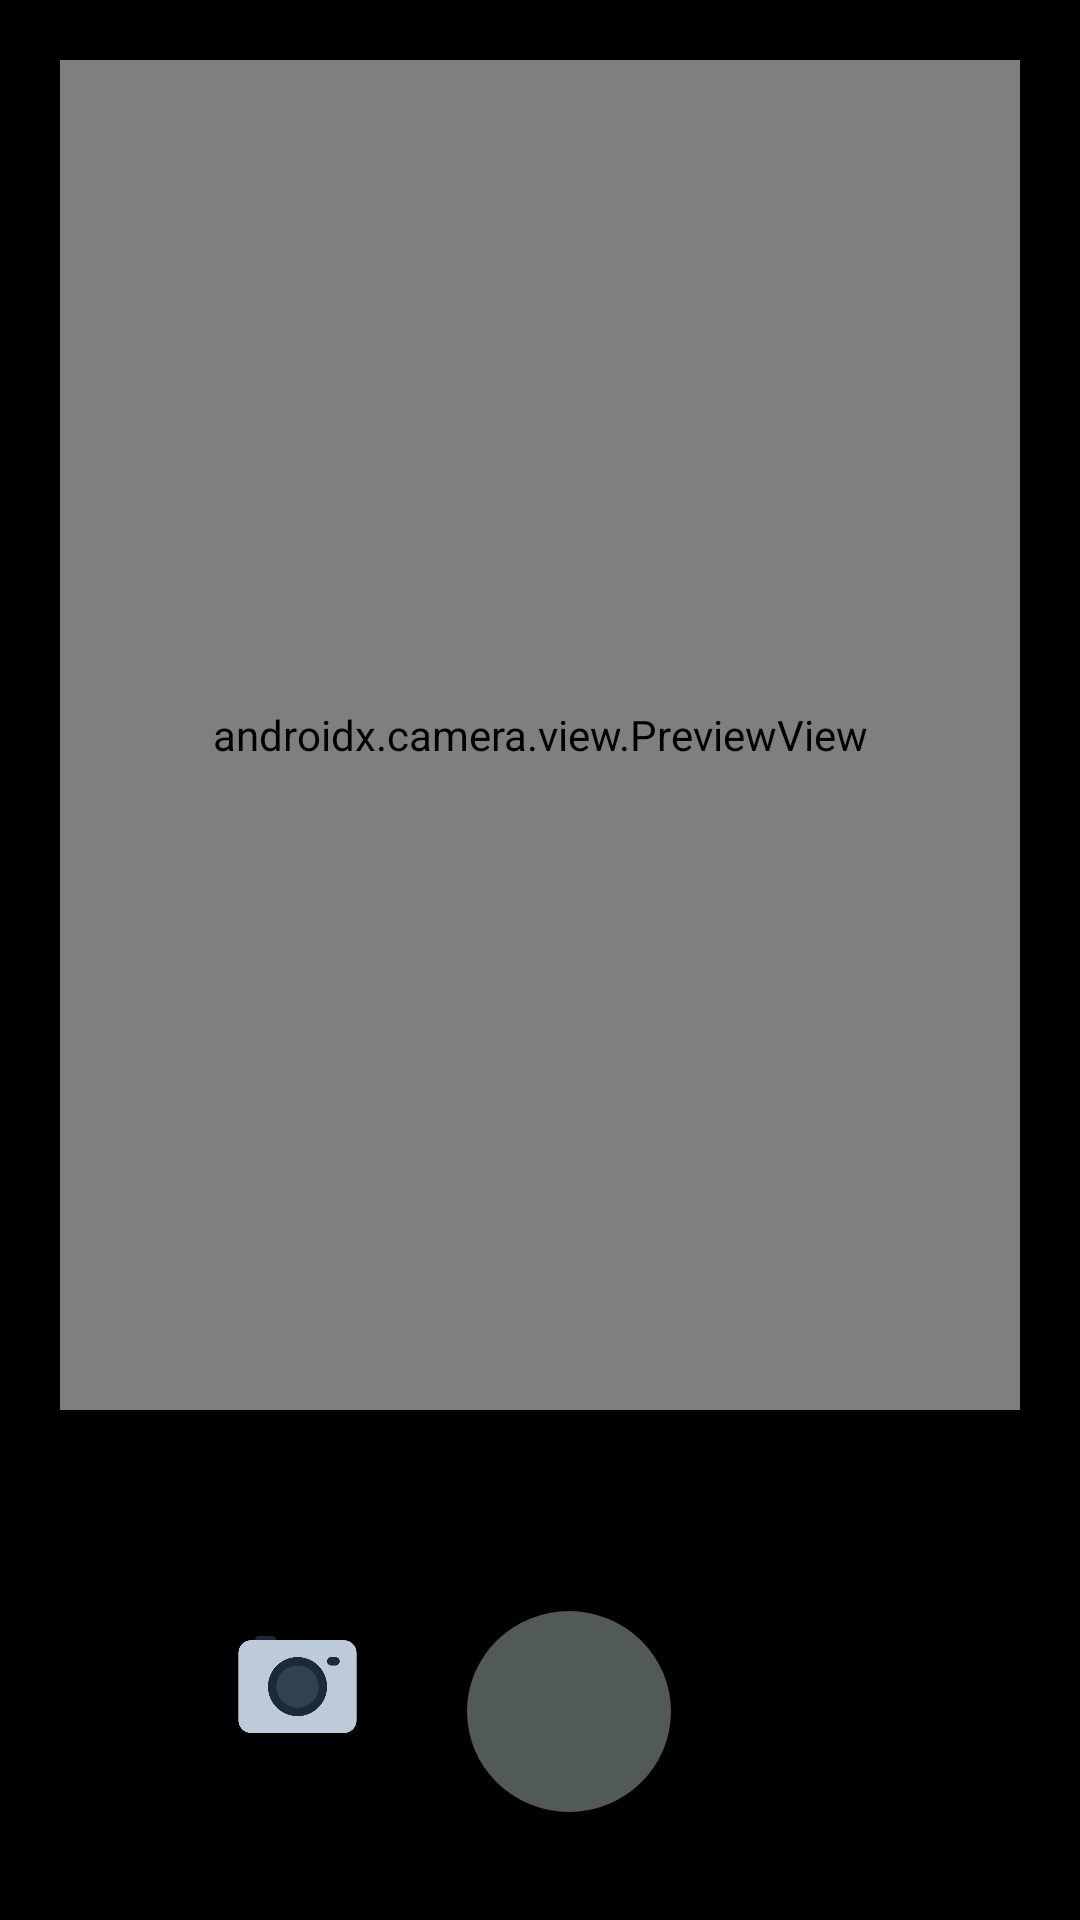

Icon bounding boxes for this 1080×1920 phone screenshot, format box=[x1, y1, x2, y2]:
camera: box=[238, 1636, 357, 1733]
